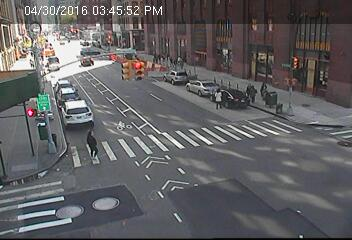neg: (182, 133, 214, 176), (17, 102, 44, 139), (280, 111, 307, 146), (17, 32, 44, 67), (294, 180, 320, 215), (242, 178, 267, 212), (120, 53, 144, 85), (42, 186, 64, 215), (83, 39, 105, 67), (148, 147, 169, 176), (167, 52, 185, 76), (99, 180, 117, 203), (67, 75, 84, 98), (310, 55, 326, 77)
pos: (79, 124, 104, 158), (209, 86, 228, 111), (247, 82, 261, 100), (259, 78, 272, 96)
